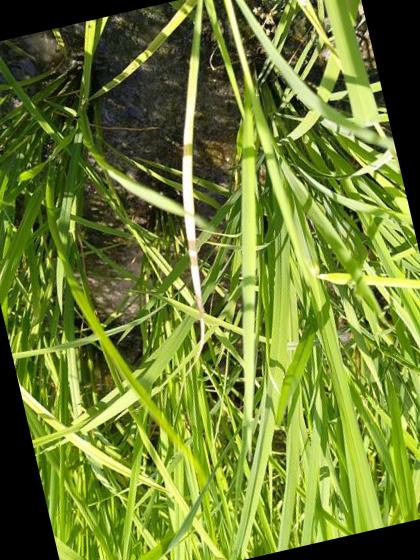Leaf Blight: (181, 19, 205, 313)
